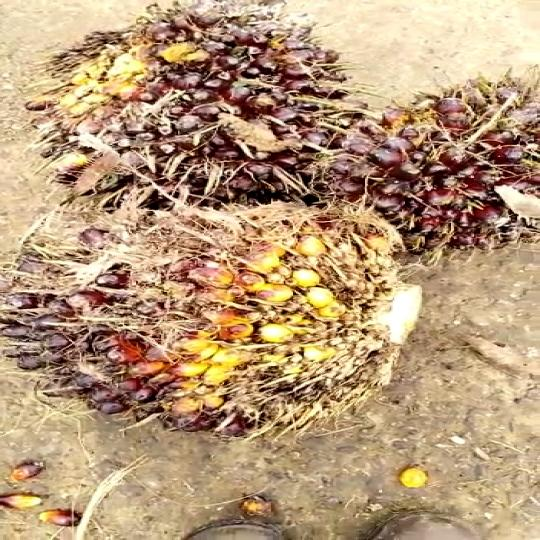kurang masak: (17, 187, 455, 461), (13, 0, 391, 204), (325, 67, 540, 279)
